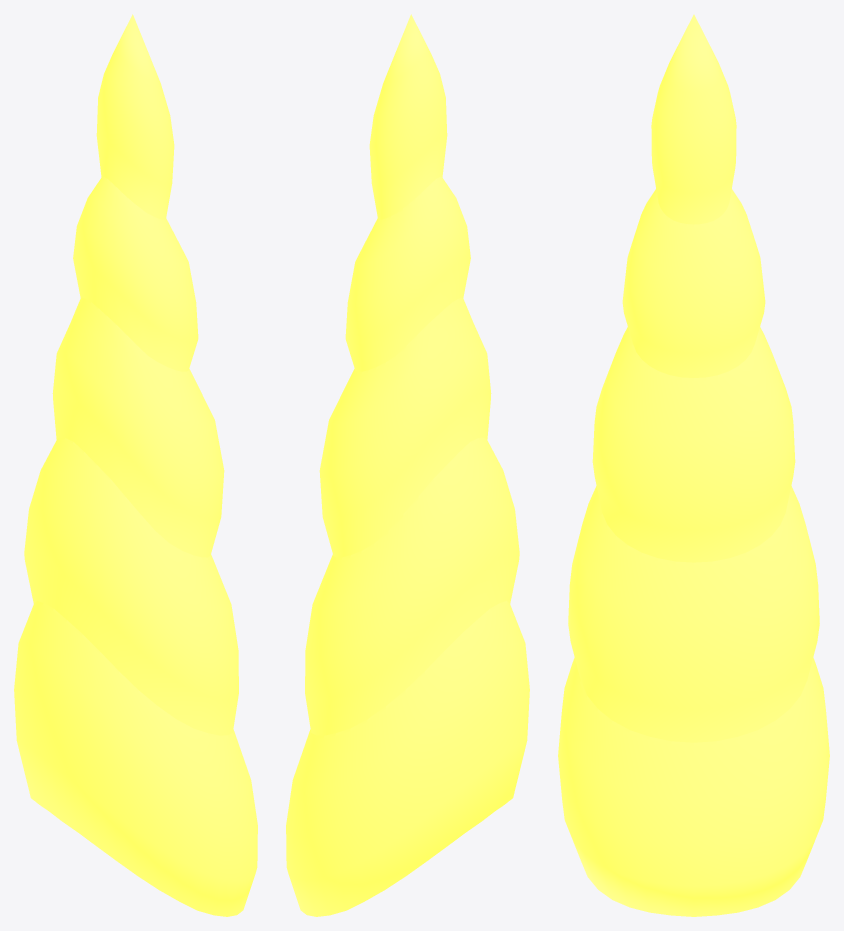
The model's file is Hat_UnicornHorn.fbx.
The picture shows the model from 3 angles, left to right: view 1: azimuth 30°, elevation 25°; view 2: azimuth 150°, elevation 25°; view 3: azimuth 270°, elevation 25°; orthographic projection. The views are drawn at different scales.
Parts seen in each view (by area): view 1: Unicorn_Horn; view 2: Unicorn_Horn; view 3: Unicorn_Horn.
Boxes of the visible parts, left/top/right/bottom form: Unicorn_Horn: left=14, top=14, right=257, bottom=916; Unicorn_Horn: left=286, top=14, right=529, bottom=916; Unicorn_Horn: left=558, top=14, right=829, bottom=916.
Size of the model in its own units: 48.76 by 205 by 59.04.
